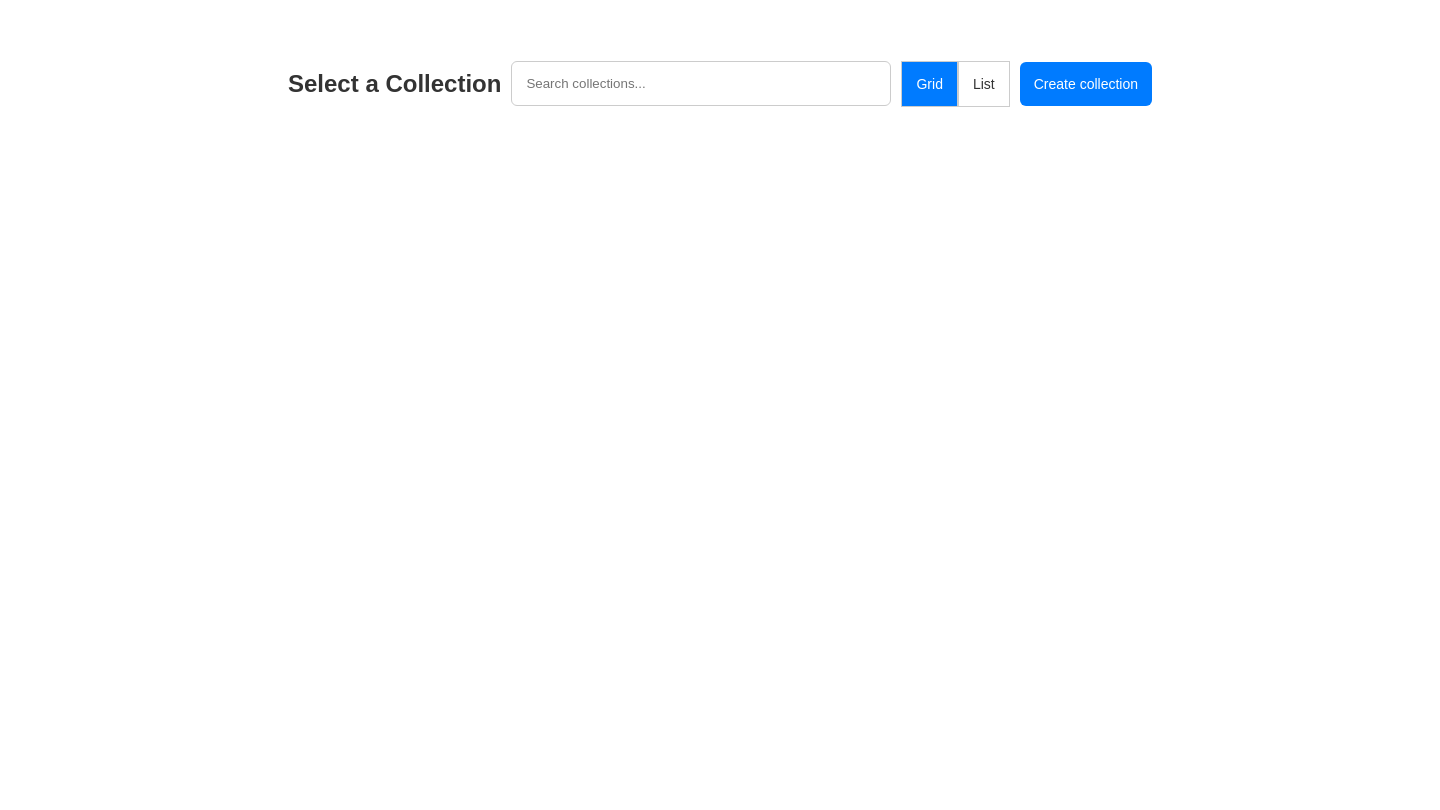
FilesList › opens create collection popup
Click the button "Create collection". click: (1086, 84)
box: left=1020, top=62, right=1152, bottom=106
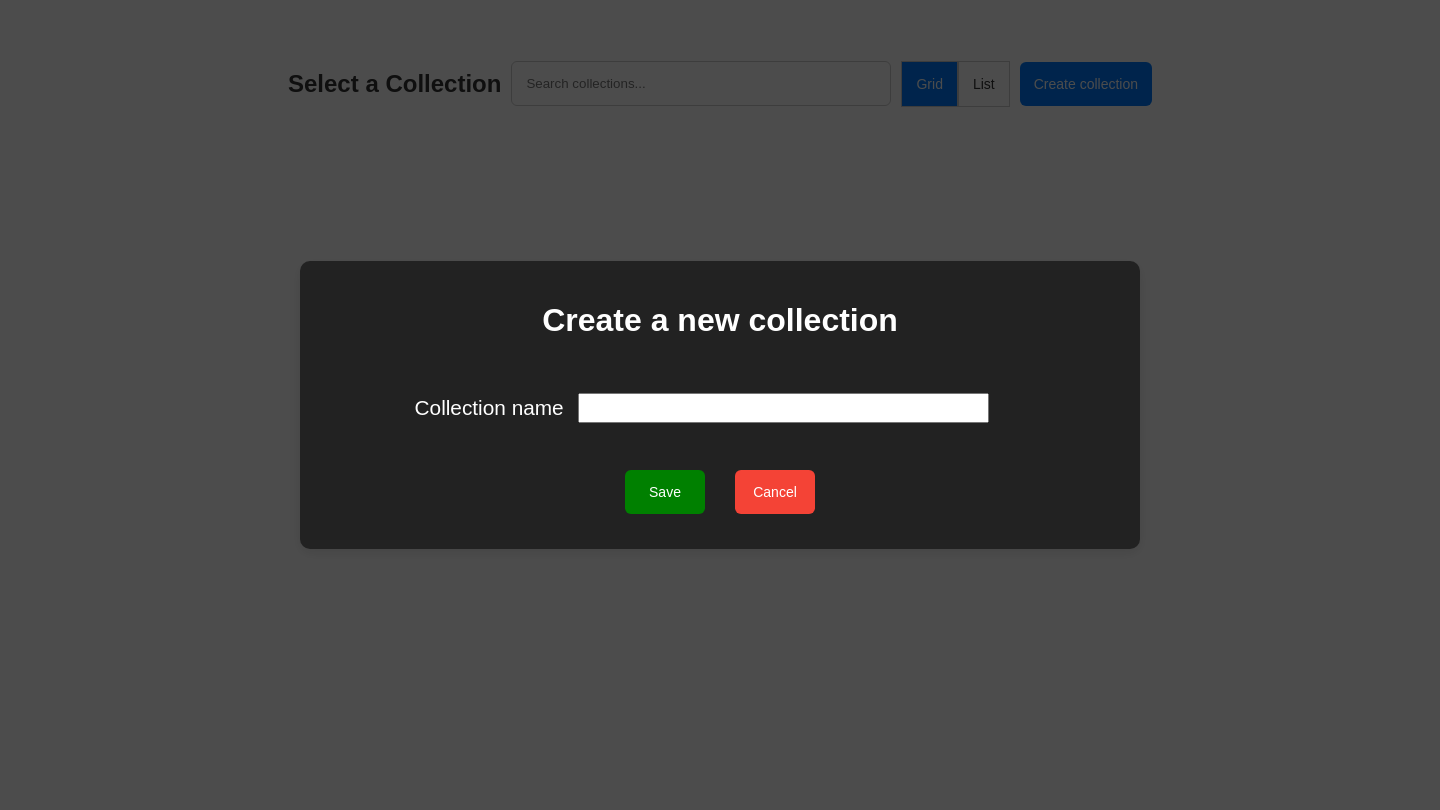
Result: the heading "Create a new collection" is shown at left=542, top=302, right=898, bottom=339
